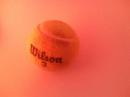tennis ball: (25, 19, 80, 73)
